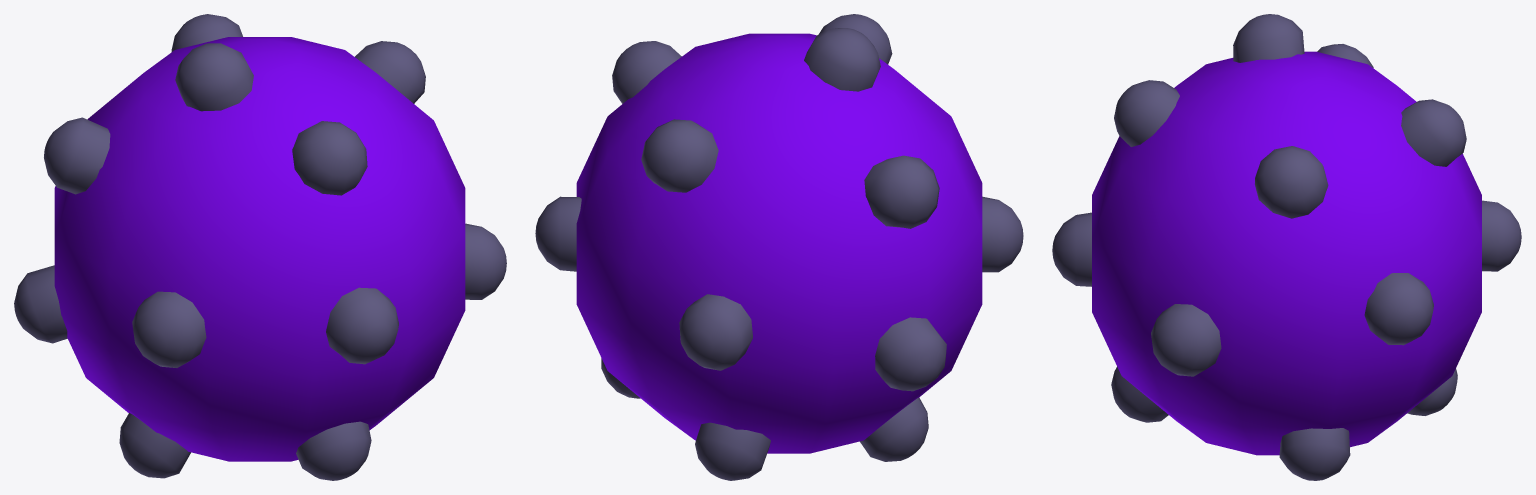
File: Sphere_With_Bubbles.fbx
3 views of the same model, side by side, from view 1: azimuth 30°, elevation 25°; view 2: azimuth 150°, elevation 25°; view 3: azimuth 270°, elevation 25° (orthographic). The views are drawn at different scales.
Visible parts, largest first — view 1: sphere with bubbles; view 2: sphere with bubbles; view 3: sphere with bubbles.
Part boxes in pixels (bbox=[...]): sphere with bubbles: bbox=[14, 14, 506, 480]; sphere with bubbles: bbox=[535, 14, 1023, 480]; sphere with bubbles: bbox=[1052, 14, 1521, 480].
Bounding box in the file's own units: 124 × 127 × 135.
